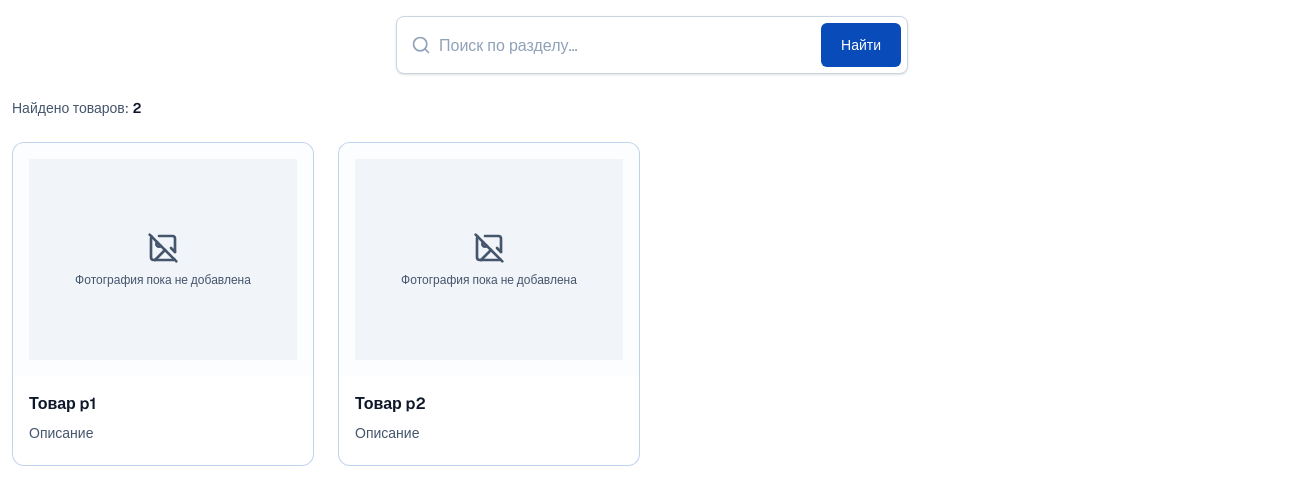
ClientCatalogSearch: устаревший запрос › игнорирует результат более раннего запроса, если он приходит после более нового
This screenshot has width=1292, height=497.
Type "первый" into the field labelled "Поиск по разделу…" at (626, 45), box [439, 25, 813, 65]
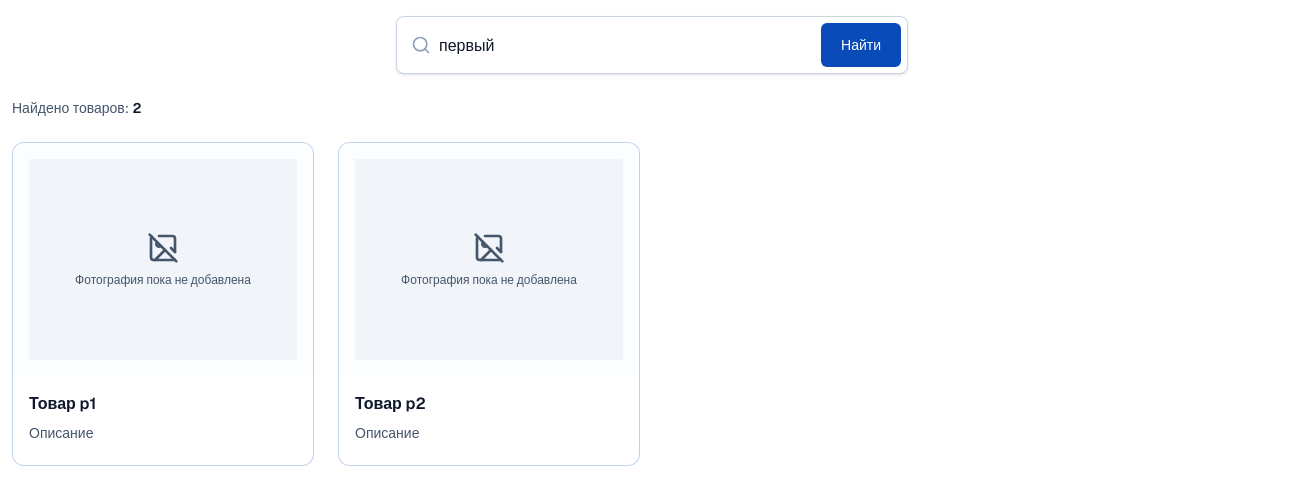
Submit the form named "поиск", box [396, 16, 908, 74]
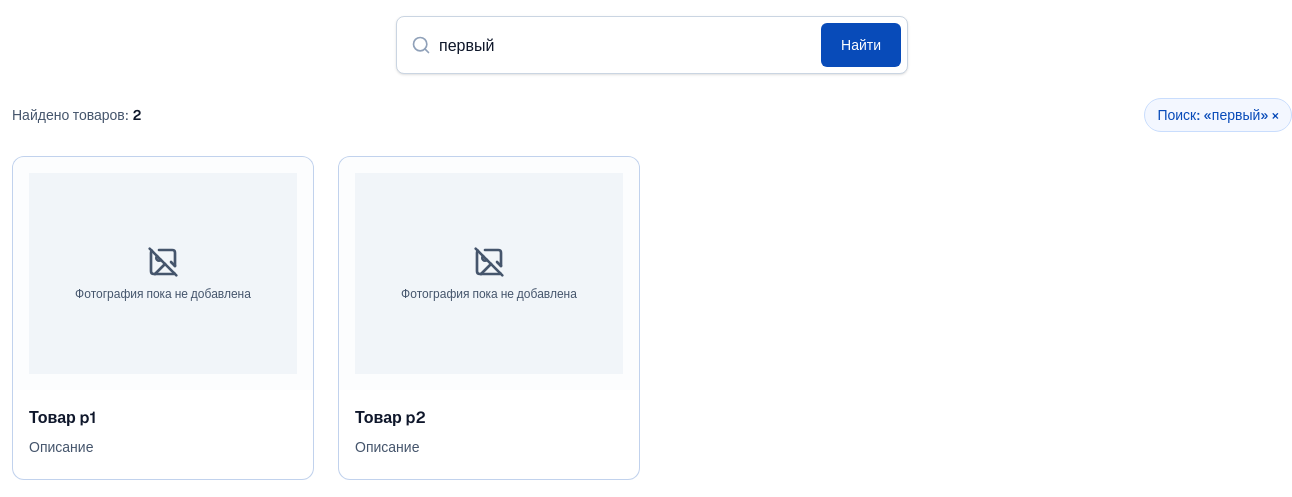
Replace the text in the field named "Поиск" with "второй" at (626, 45), box [439, 25, 813, 65]
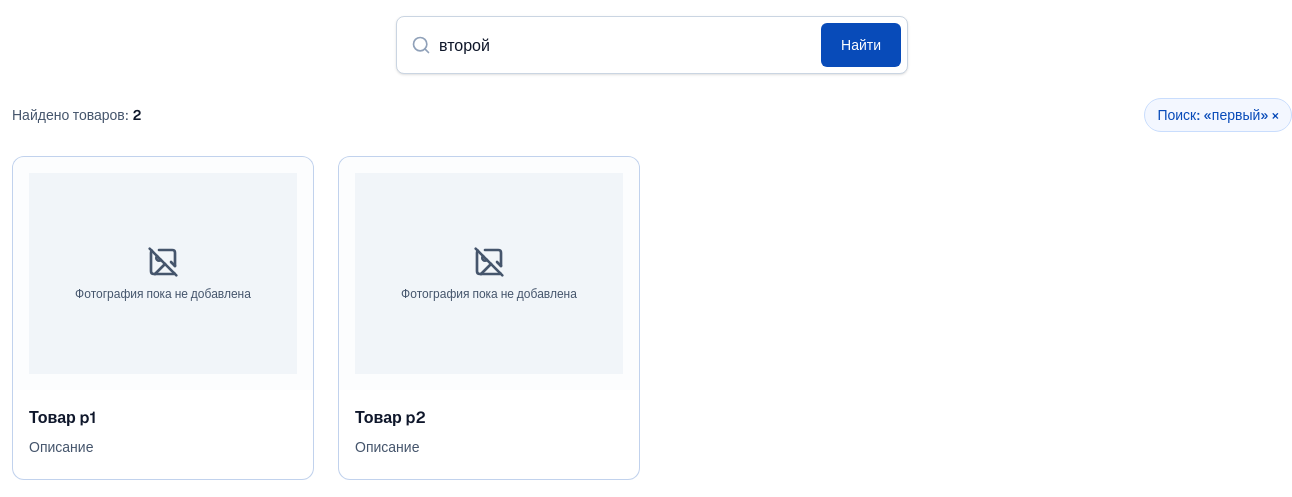
Submit the form named "поиск", box [396, 16, 908, 74]
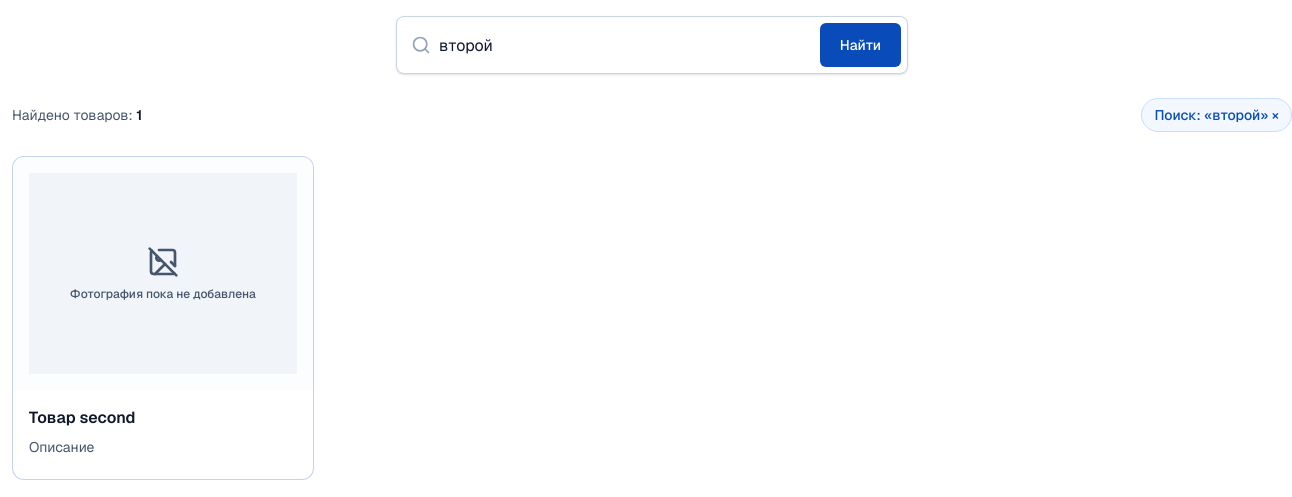
Expected: the text "Товар second" is shown, [29, 407, 136, 428]
